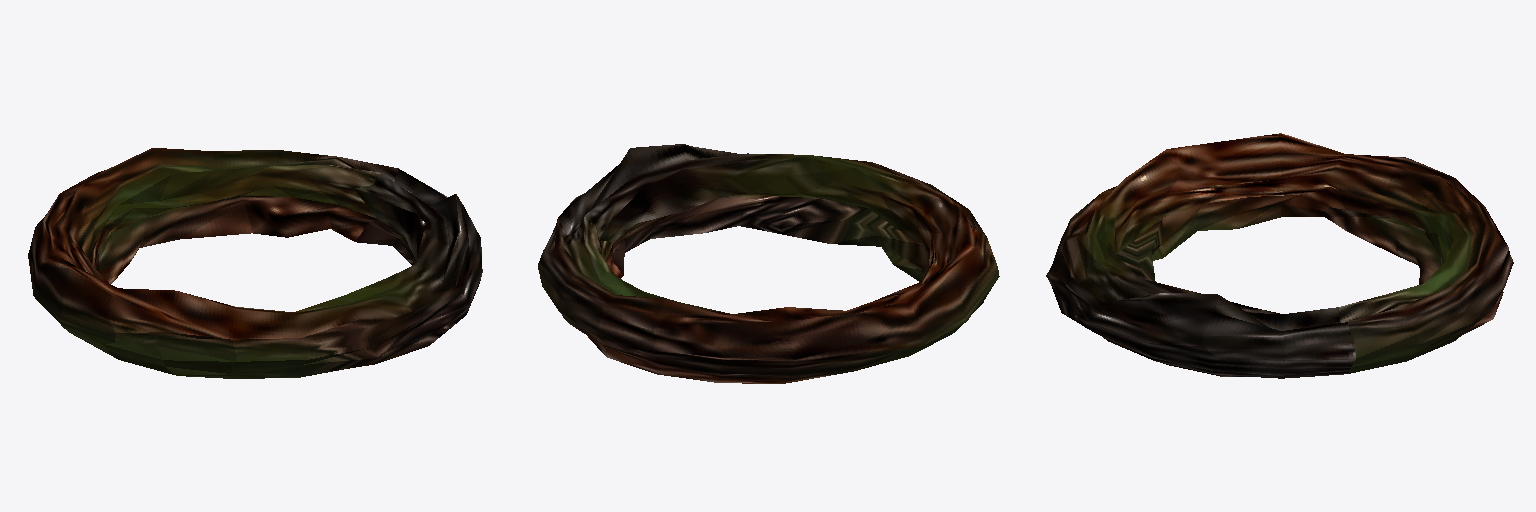
3 renders of one model, left to right at view 1: azimuth 30°, elevation 25°; view 2: azimuth 150°, elevation 25°; view 3: azimuth 270°, elevation 25°, orthographic.
Visible parts, largest first — view 1: pTorus1; view 2: pTorus1; view 3: pTorus1.
Part boxes in pixels (x1,y1,x2,y2): pTorus1: (28,148,482,378); pTorus1: (538,144,999,383); pTorus1: (1046,133,1513,378).
Size of the model in its own units: 140 by 29.97 by 144.
Materials: 1 (1 with a texture image).